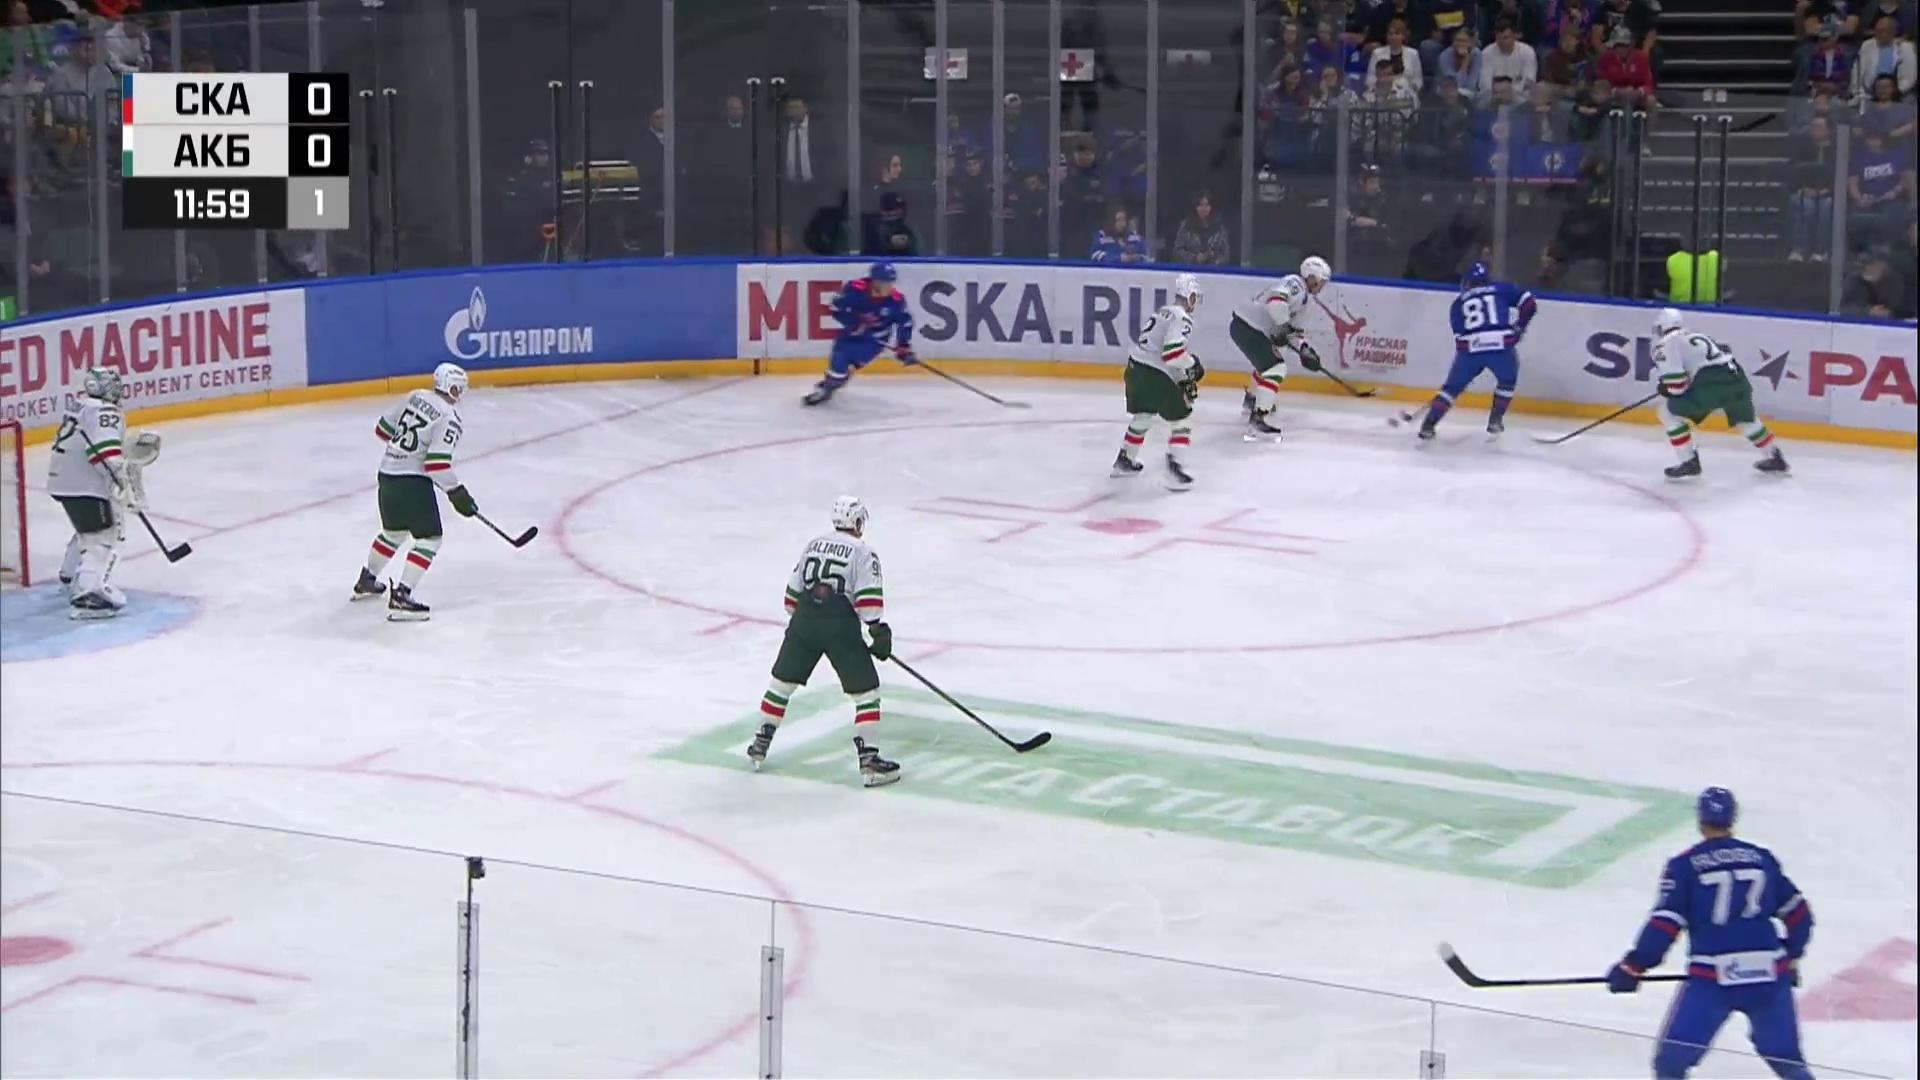ball: (1387, 417, 1400, 430)
